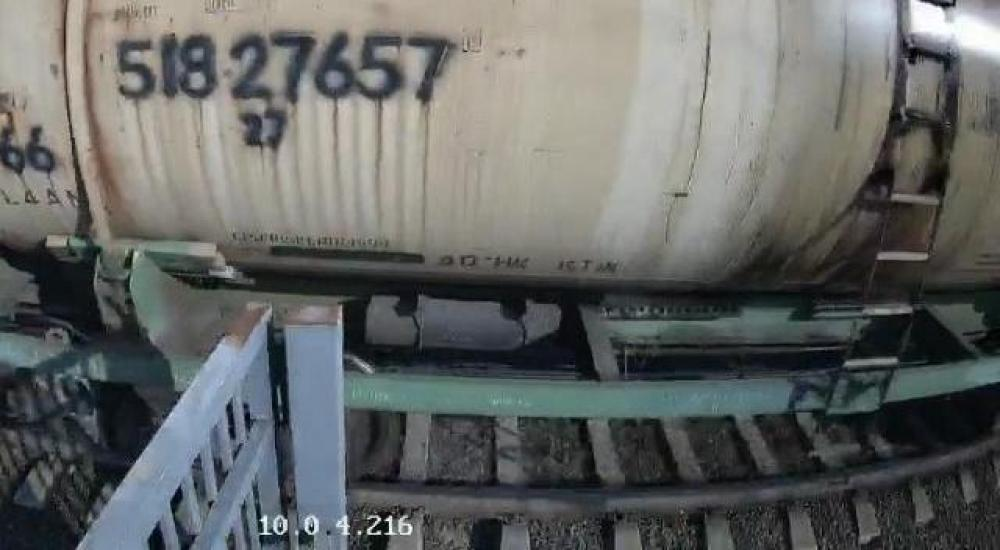Wagon-number: (111, 29, 454, 107)
